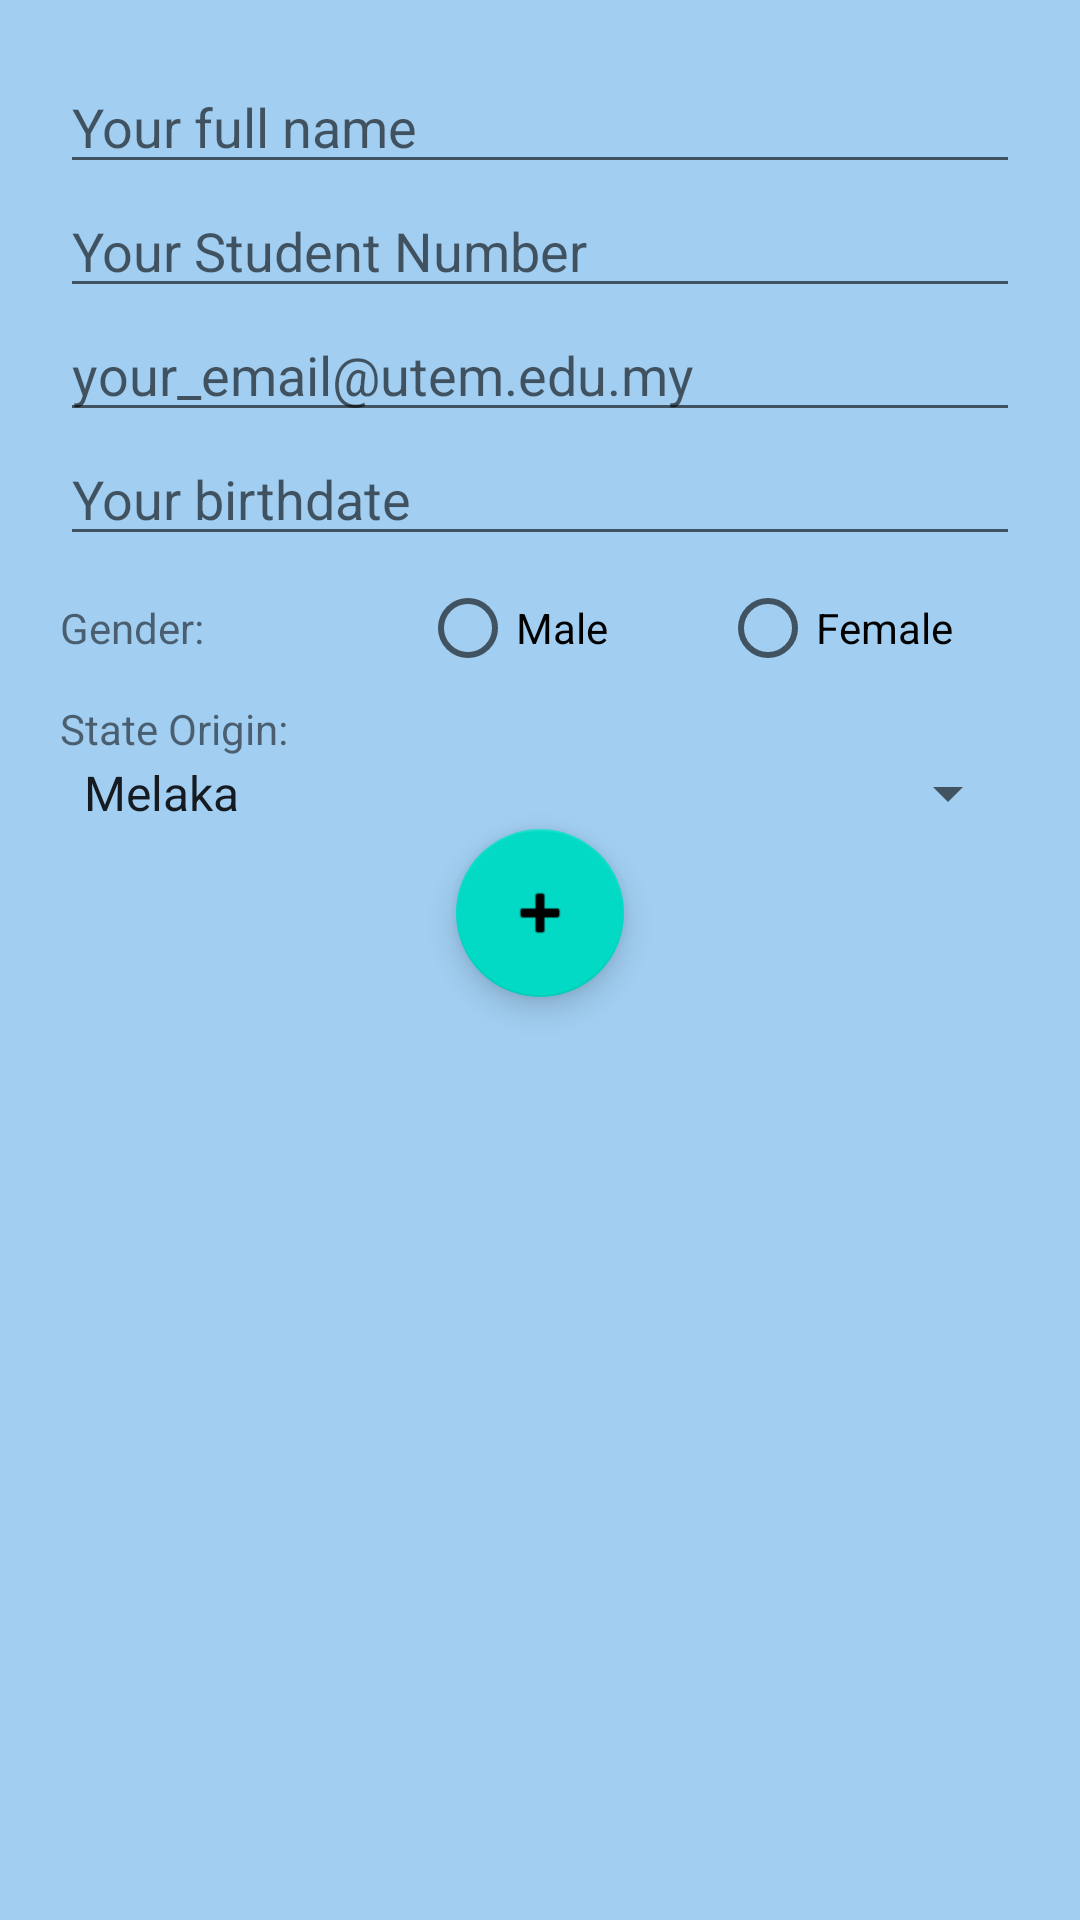

Screen size 1080 × 1920. Icon name, then its center in pixels as (x,y):
add: (540,913)
